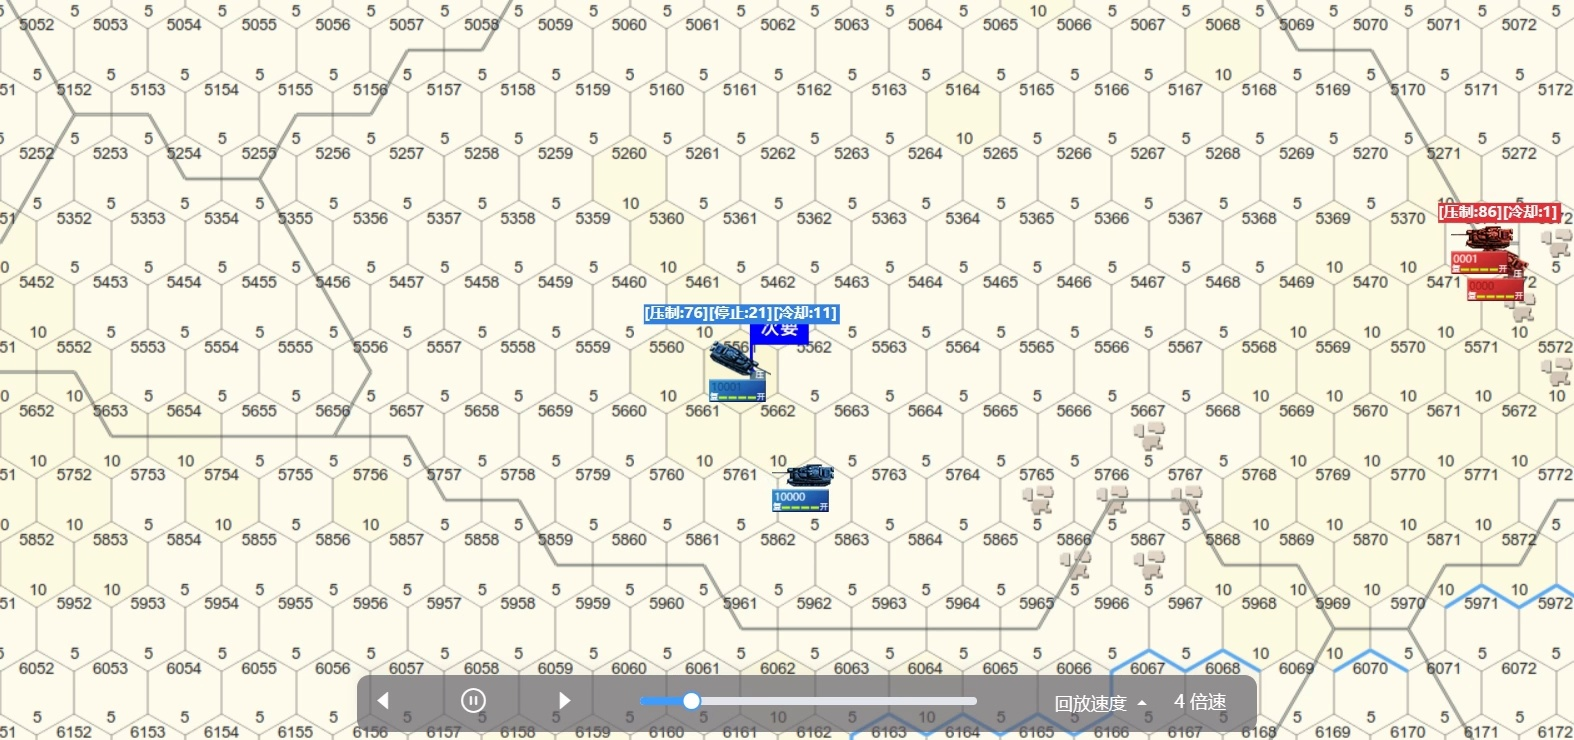blue_tank: (774, 461, 834, 510), (711, 352, 763, 392)
red_tank: (1477, 260, 1523, 306), (1462, 230, 1511, 270)
